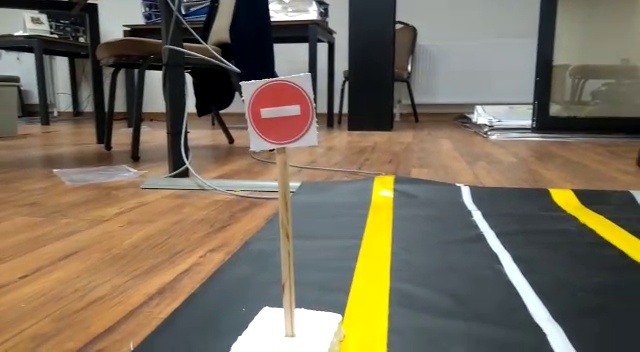girisi_olmayan_yol: (243, 76, 312, 150)
